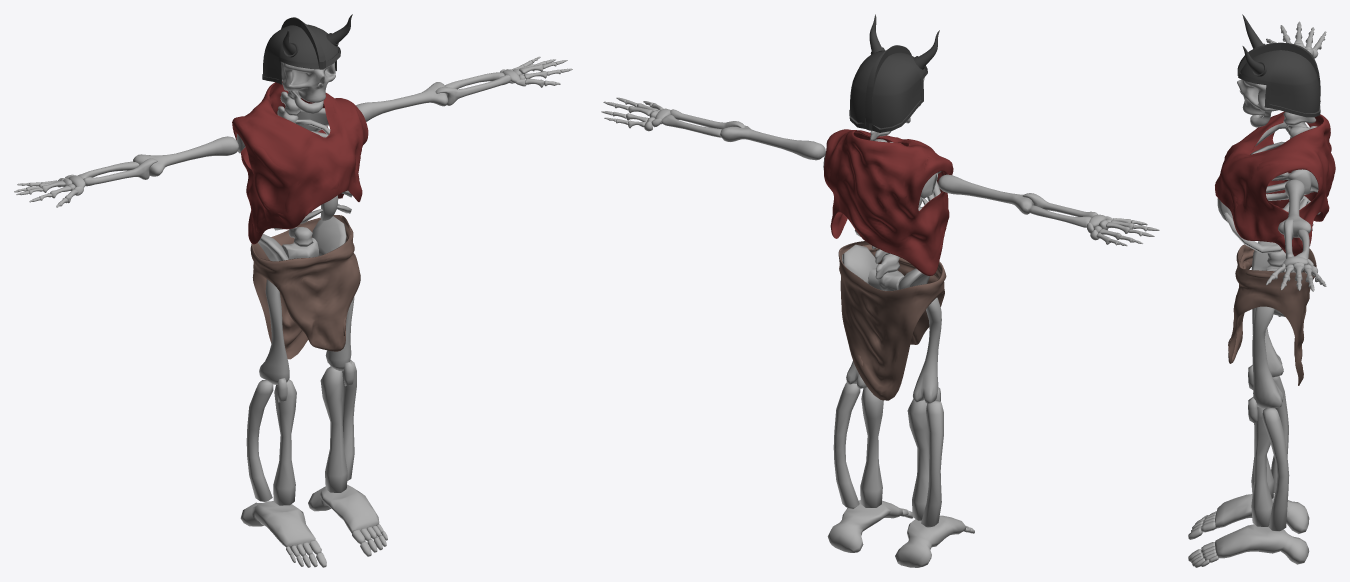
File: EsqueletoconRopa.fbx
3 renders of one model, left to right at view 1: azimuth 30°, elevation 25°; view 2: azimuth 150°, elevation 25°; view 3: azimuth 270°, elevation 25°, orthographic.
Visible parts, largest first — view 1: polySurface130, tunicalow, TaparaboLow, Casco; view 2: polySurface130, tunicalow, TaparaboLow, Casco; view 3: polySurface130, tunicalow, Casco, TaparaboLow.
Boxes of the visible parts, x1,y1,x2,y2 form: polySurface130: [14, 56, 572, 567]; tunicalow: [232, 81, 368, 244]; TaparaboLow: [250, 215, 360, 359]; Casco: [262, 14, 352, 84]; polySurface130: [601, 78, 1159, 567]; tunicalow: [824, 129, 953, 275]; TaparaboLow: [838, 241, 946, 400]; Casco: [849, 14, 939, 132]; polySurface130: [1188, 21, 1326, 567]; tunicalow: [1215, 111, 1335, 256]; Casco: [1237, 14, 1320, 117]; TaparaboLow: [1228, 244, 1316, 385].
Size of the model in its own units: 0.3353 by 0.3029 by 0.0777.
